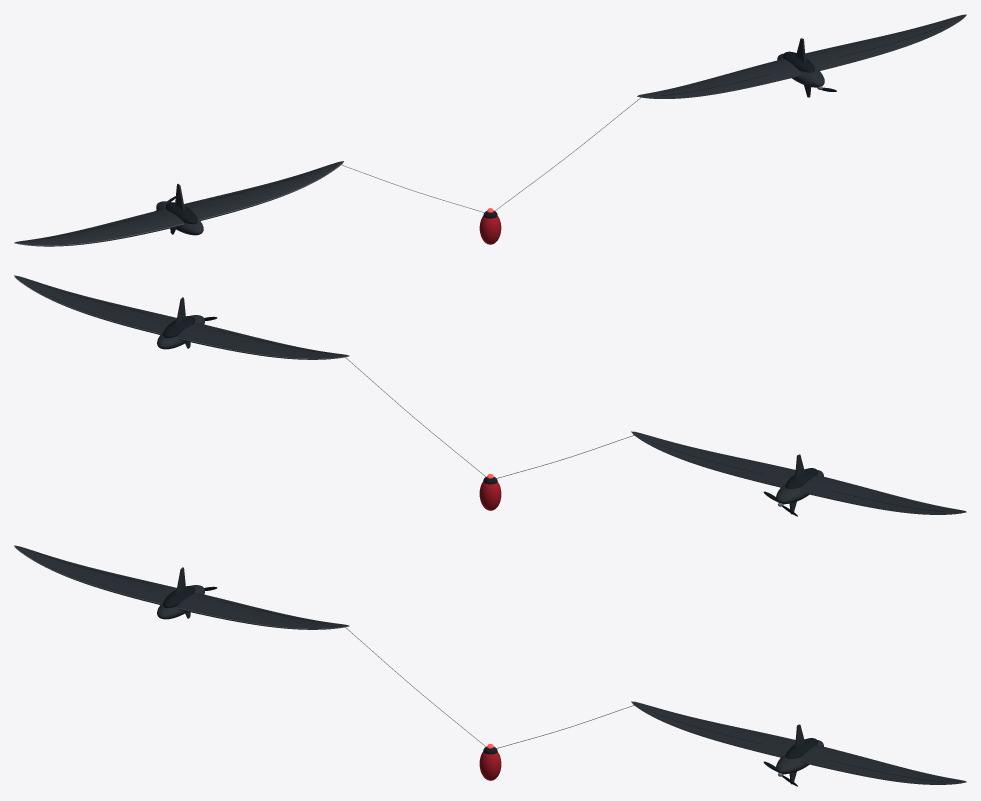
Rendered from x721-concept.glb.
3 renders of one model, top to bottom at view 1: azimuth 30°, elevation 25°; view 2: azimuth 150°, elevation 25°; view 3: azimuth 330°, elevation 25°, orthographic.
Parts seen in each view (by area): view 1: wing_1_shell, wing_2_shell, capsule_shell; view 2: wing_2_shell, wing_1_shell; view 3: wing_1_shell, wing_2_shell.
Boxes of the visible parts, x1,y1,x2,y2 form: wing_1_shell: [637, 14, 966, 98]; wing_2_shell: [14, 161, 343, 246]; capsule_shell: [479, 215, 501, 244]; wing_2_shell: [631, 431, 966, 514]; wing_1_shell: [14, 275, 349, 359]; wing_1_shell: [631, 701, 966, 784]; wing_2_shell: [14, 545, 349, 629].
Bounding box in the file's own units: 6.3 × 0.841 × 0.522.
